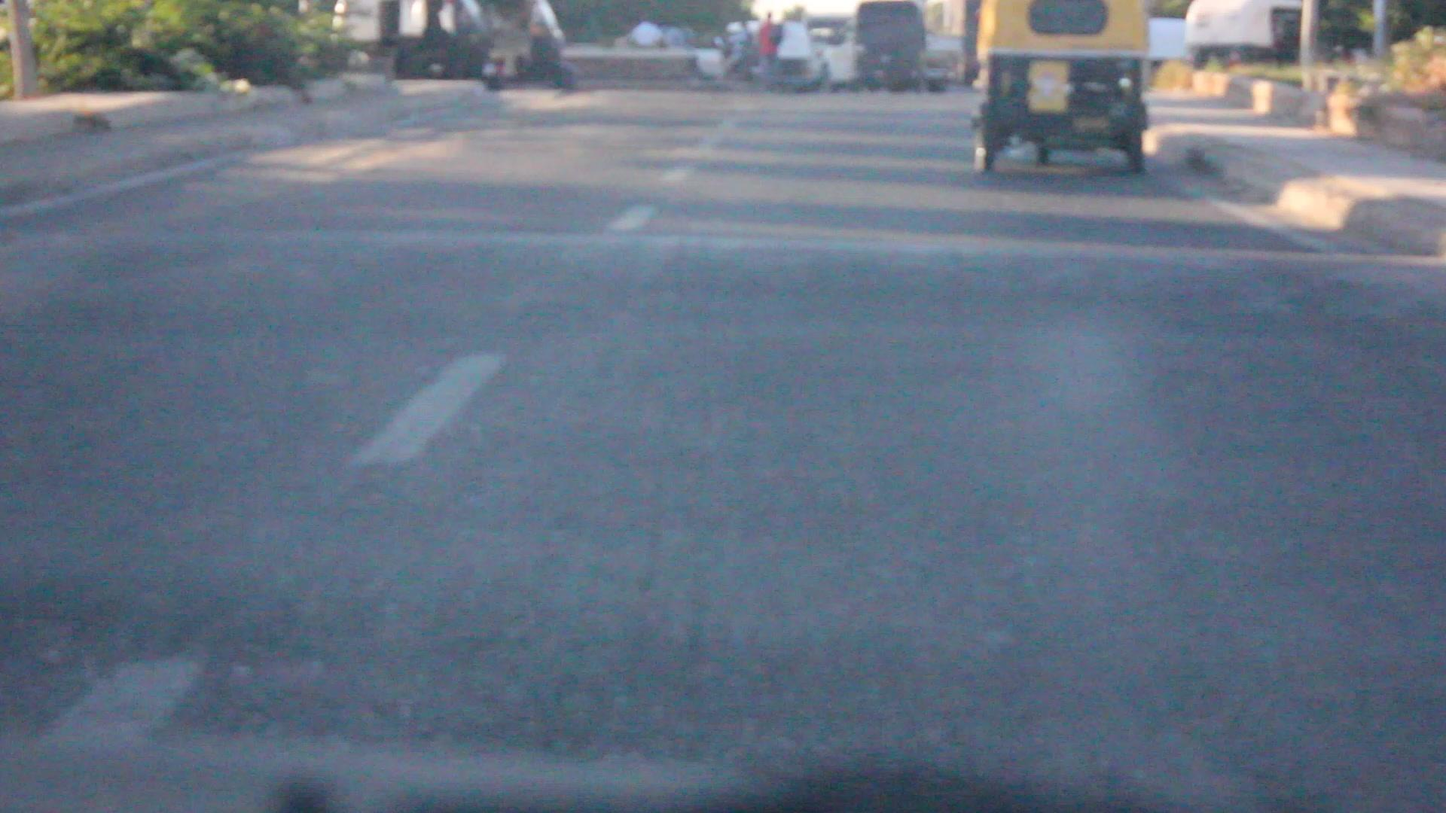Bump: (0, 231, 1445, 342)
